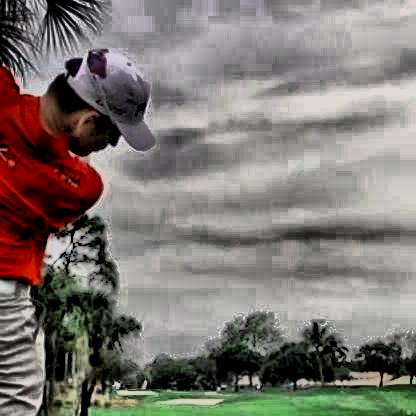golfball: (314, 315, 321, 322)
